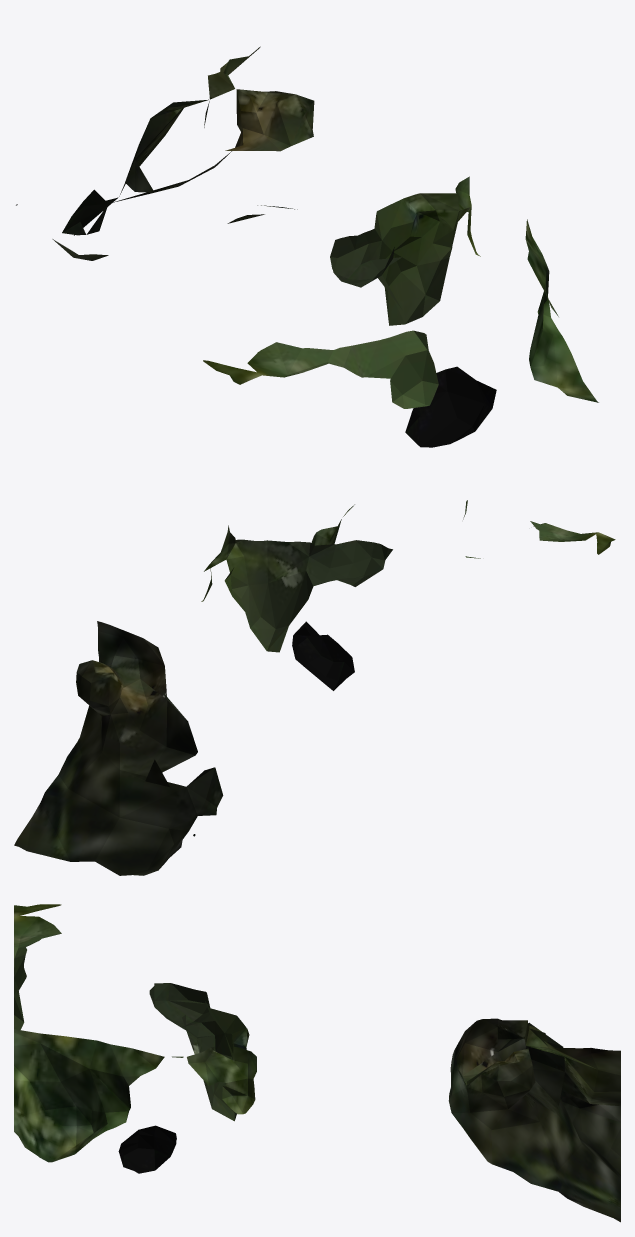
3 views of the same model, one above another, from view 1: azimuth 30°, elevation 25°; view 2: azimuth 150°, elevation 25°; view 3: azimuth 270°, elevation 25° (orthographic). The views are drawn at different scales.
Bounding box in the file's own units: 0.4976 × 0.2593 × 0.8373.
1 material, 1 textured.
